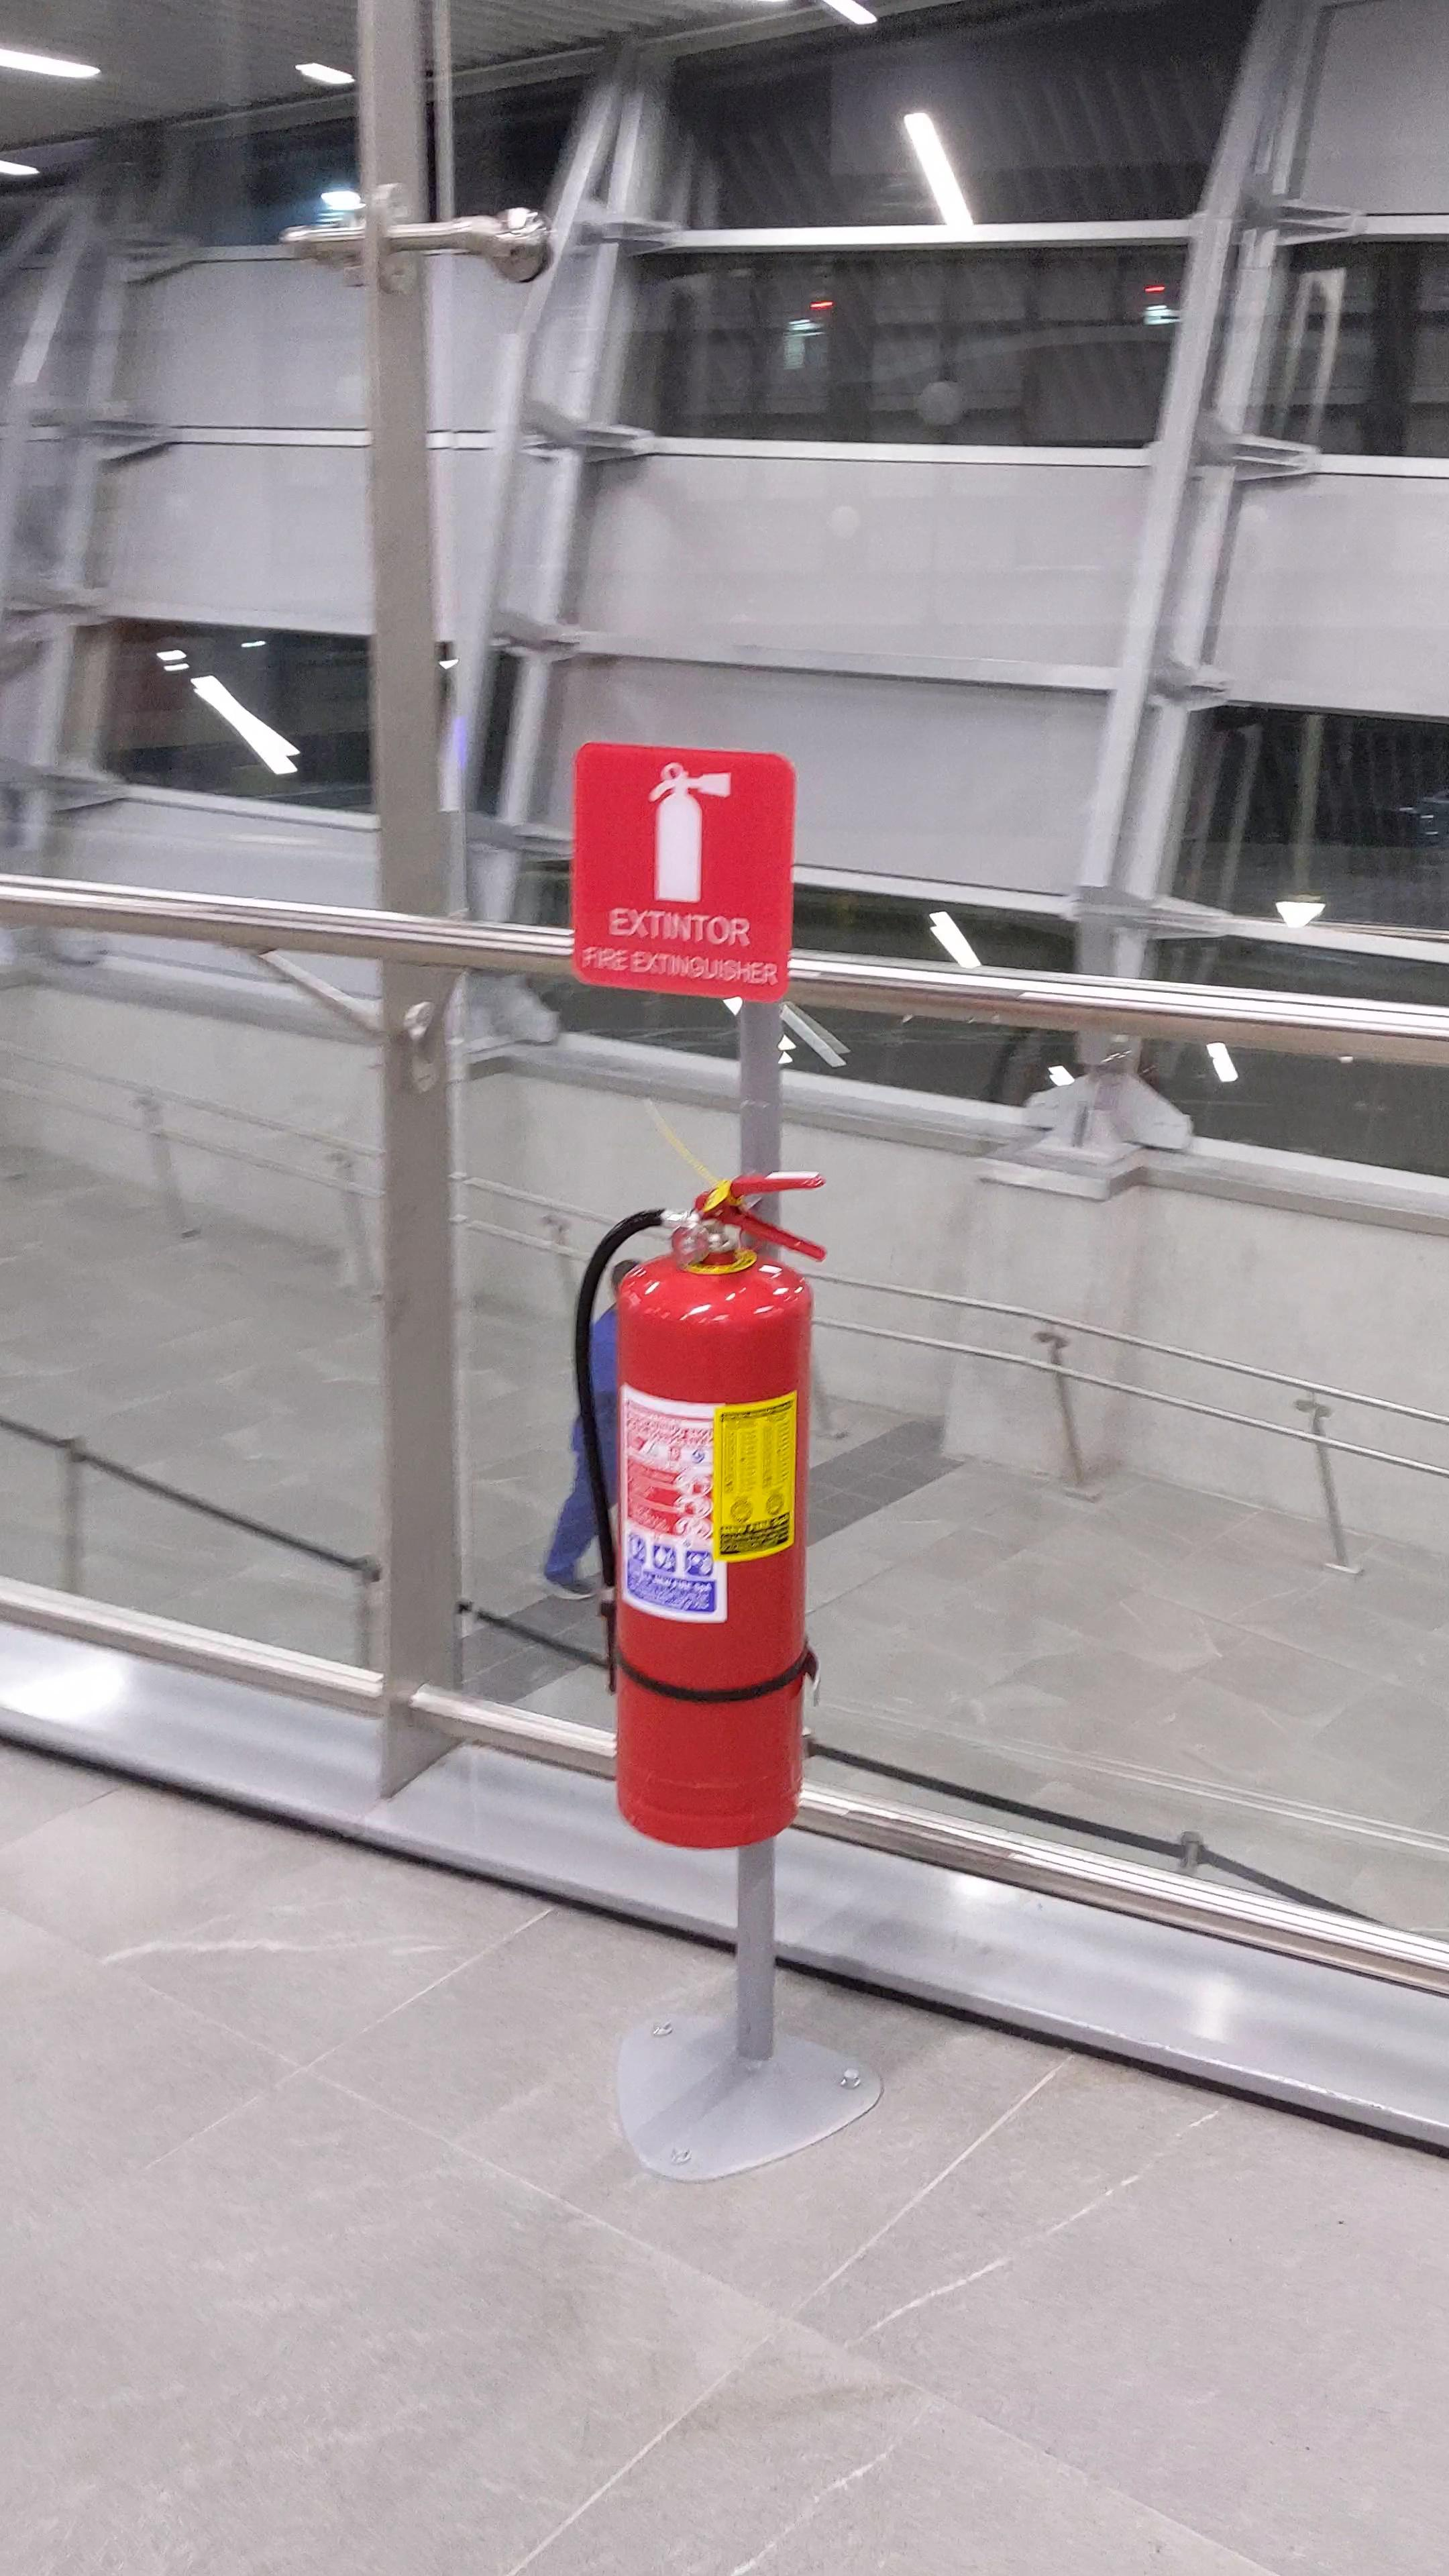extinguisher symbol: (642, 761, 740, 906)
fire-extinguisher: (566, 1164, 835, 1870)
